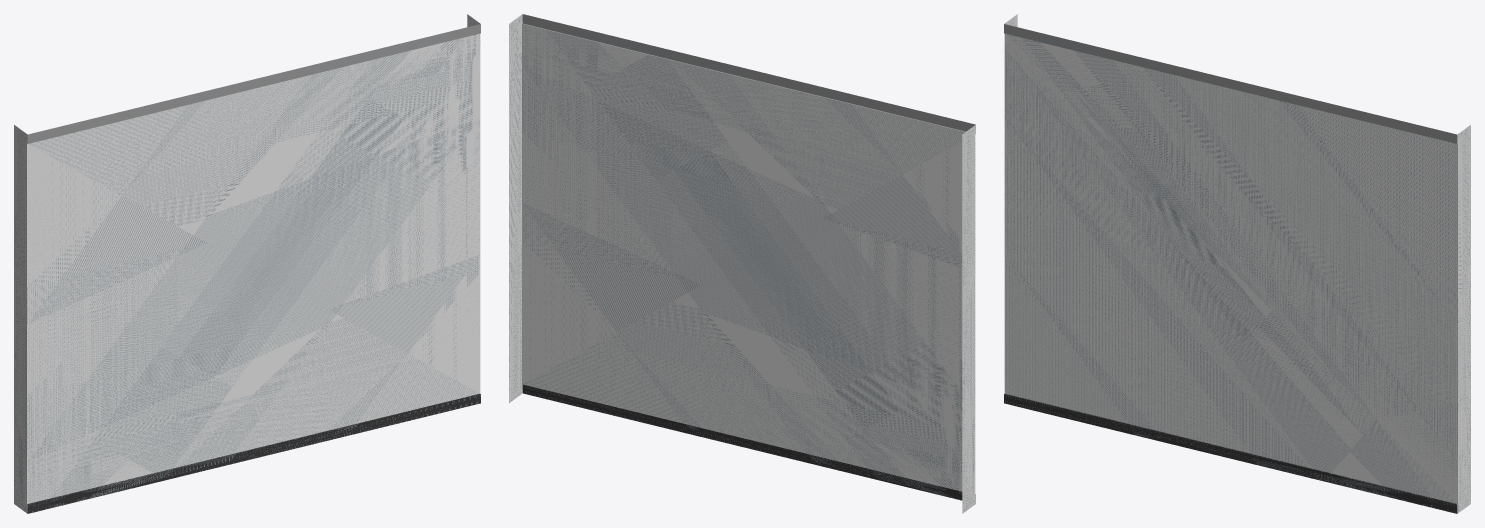
File: BlockWall_os_plinth_5x4x025.dae
3 views of the same model, side by side, from view 1: azimuth 30°, elevation 25°; view 2: azimuth 150°, elevation 25°; view 3: azimuth 330°, elevation 25° (orthographic).
Parts seen in each view (by area): view 1: group_0 (×3); view 2: group_0 (×3); view 3: group_0 (×3).
Boxes of the visible parts, x1,y1,x2,y2 form: group_0 (×3): (14, 14, 480, 513); group_0 (×3): (509, 14, 975, 513); group_0 (×3): (1004, 14, 1470, 513).
Size of the model in its own units: 197 by 10.24 by 157.
